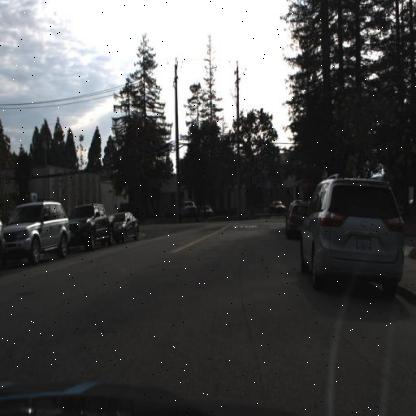car: (298, 167, 406, 294), (0, 199, 73, 264), (69, 199, 116, 250), (69, 198, 107, 255), (107, 208, 137, 245), (286, 198, 308, 242), (114, 209, 139, 244), (270, 194, 291, 222), (198, 199, 216, 219), (180, 198, 198, 217)
